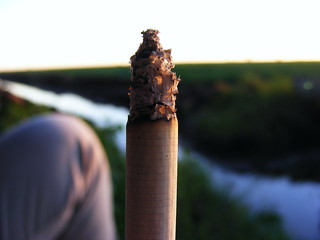cigarette: (117, 27, 187, 240)
